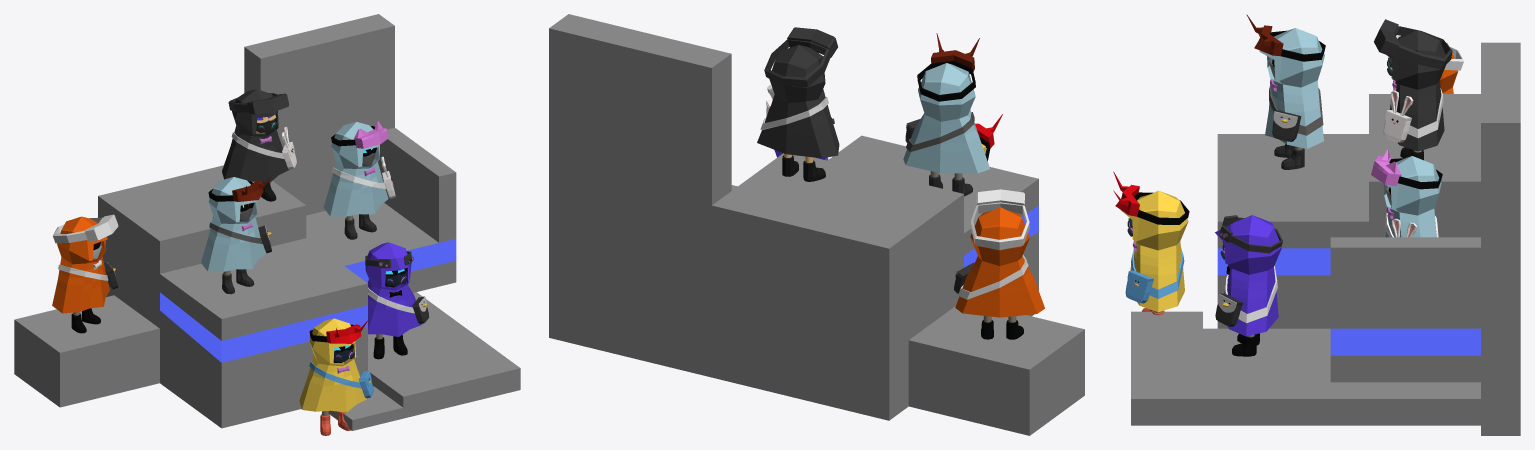
Rendered from Human_right.glb.
The picture shows the model from 3 angles, left to right: view 1: azimuth 30°, elevation 25°; view 2: azimuth 150°, elevation 25°; view 3: azimuth 270°, elevation 25°; orthographic projection. The views are drawn at different scales.
Parts seen in each view (by area): view 1: bg, Body.002, Body.014, Body.018, Body.010, Body.001, Body.020, VR01.002, VR01, VR03.002, VR02, VR02.002; view 2: bg, Body.002, Body.018, Body.001, VR01, VR01.002, VR02, Body.019, Body.003; view 3: bg, Body.020, Body.010, Body.002, Body.001, Body.014, VR01, VR02.002, VR03.002, VR02, 02RabbitBag, VR04 (+9 smaller).
Part boxes in pixels (left/top/right/bottom): bg: left=14, top=14, right=520, bottom=430; Body.002: left=201, top=177, right=265, bottom=271; Body.014: left=323, top=121, right=388, bottom=216; Body.018: left=52, top=216, right=109, bottom=313; Body.010: left=299, top=318, right=367, bottom=412; Body.001: left=222, top=89, right=289, bottom=183; Body.020: left=365, top=242, right=422, bottom=336; VR01.002: left=53, top=214, right=118, bottom=243; VR01: left=228, top=93, right=289, bottom=114; VR03.002: left=331, top=121, right=388, bottom=148; VR02: left=208, top=174, right=272, bottom=201; VR02.002: left=309, top=320, right=368, bottom=343; bg: left=549, top=14, right=1084, bottom=435; Body.002: left=903, top=63, right=989, bottom=173; Body.018: left=955, top=207, right=1044, bottom=317; Body.001: left=757, top=45, right=839, bottom=158; VR01: left=764, top=27, right=837, bottom=86; VR01.002: left=970, top=189, right=1029, bottom=250; VR02: left=917, top=33, right=979, bottom=101; Body.019: left=958, top=254, right=1028, bottom=299; Body.003: left=906, top=112, right=974, bottom=151; bg: left=1131, top=42, right=1520, bottom=435; Body.020: left=1215, top=215, right=1281, bottom=336; Body.010: left=1121, top=190, right=1188, bottom=312; Body.002: left=1259, top=28, right=1324, bottom=148; Body.001: left=1387, top=30, right=1445, bottom=151; Body.014: left=1376, top=156, right=1441, bottom=237; VR01: left=1374, top=19, right=1452, bottom=69; VR02.002: left=1113, top=171, right=1189, bottom=224; VR03.002: left=1371, top=149, right=1442, bottom=189; VR02: left=1246, top=14, right=1325, bottom=61; 02RabbitBag: left=1383, top=90, right=1413, bottom=142; VR04: left=1219, top=215, right=1282, bottom=253.
Size of the model in its own units: 14.91 by 9.67 by 11.27.
